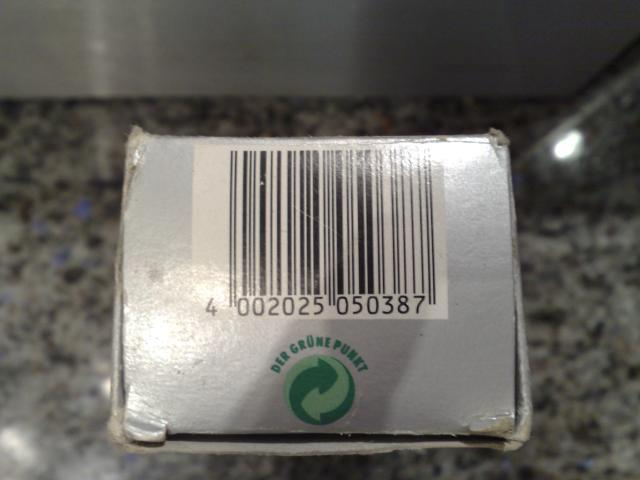Barcode: (195, 145, 448, 320)
